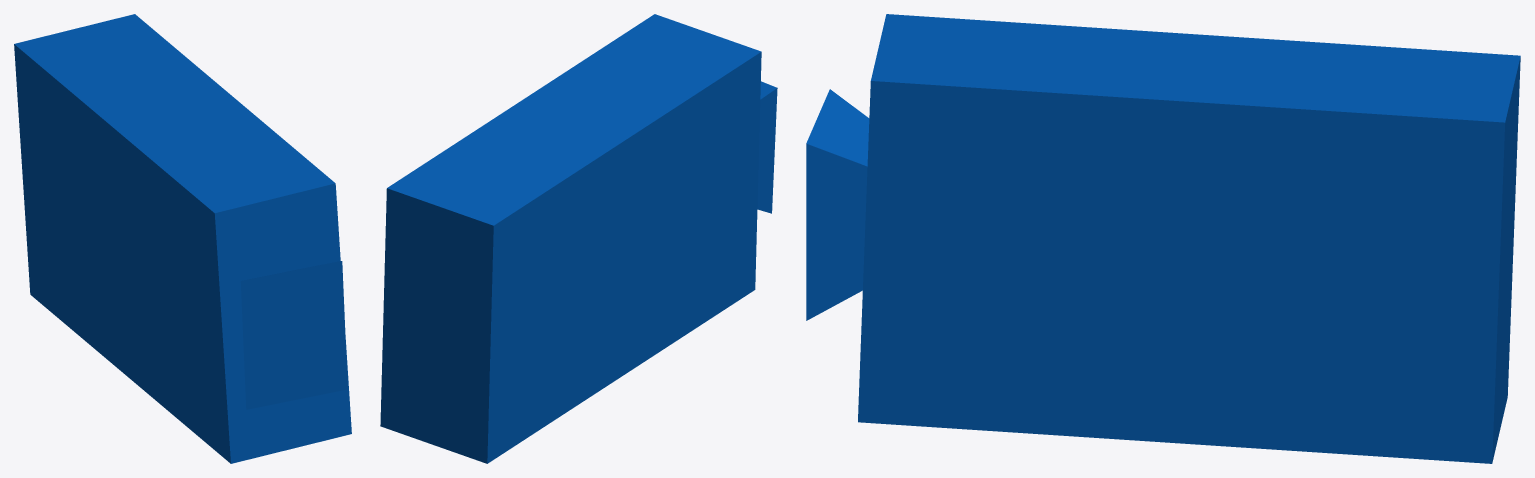
The model's file is plasma ball hologram puzzle lock hologram plasma ball reciver_end point.fbx.
The picture shows the model from 3 angles, left to right: view 1: azimuth 30°, elevation 25°; view 2: azimuth 150°, elevation 25°; view 3: azimuth 270°, elevation 25°; orthographic projection. The views are drawn at different scales.
Parts seen in each view (by area): view 1: 94f200be-96c6-401c-87b5-9e634b2935ce; view 2: 94f200be-96c6-401c-87b5-9e634b2935ce; view 3: 94f200be-96c6-401c-87b5-9e634b2935ce.
Part boxes in pixels (x1,y1,x2,y2): 94f200be-96c6-401c-87b5-9e634b2935ce: (14, 14, 351, 463); 94f200be-96c6-401c-87b5-9e634b2935ce: (380, 14, 777, 463); 94f200be-96c6-401c-87b5-9e634b2935ce: (806, 14, 1520, 463).
Size of the model in its own units: 2777 by 4381 by 7882.
